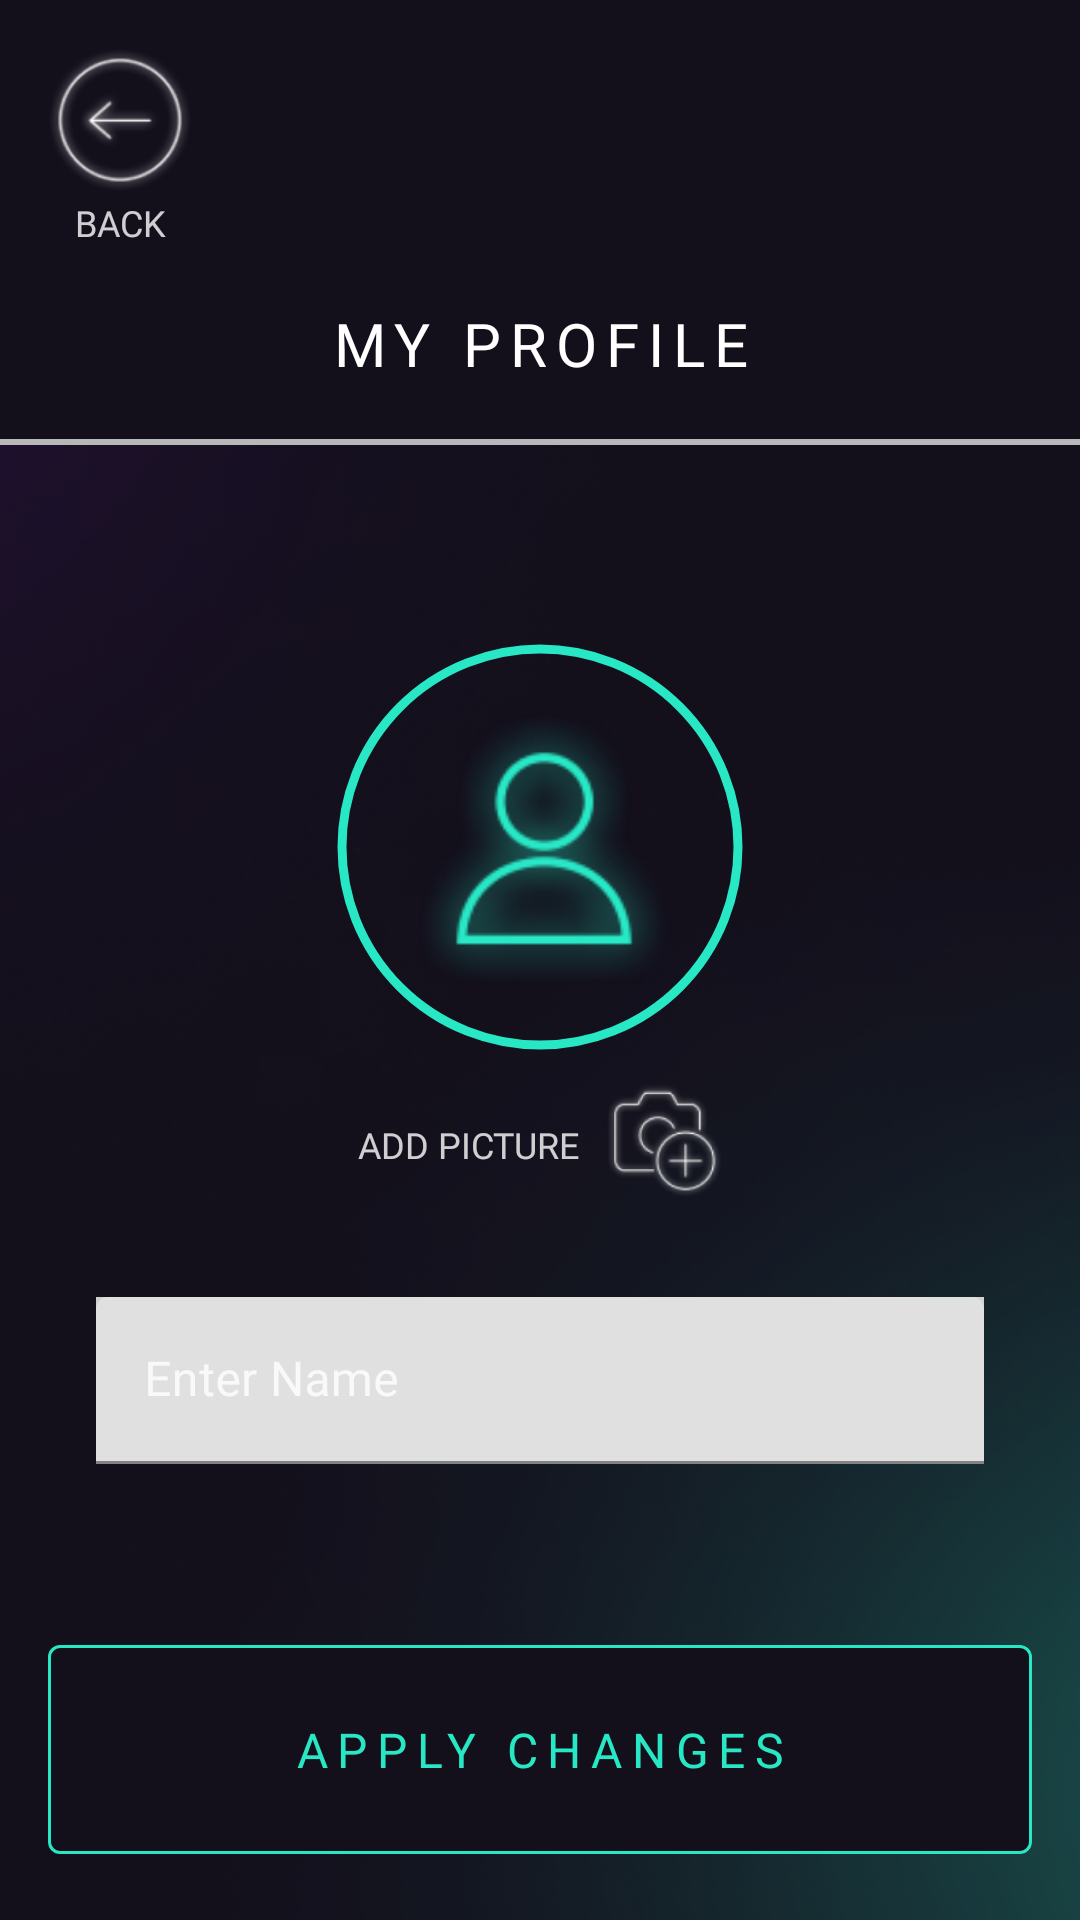

Locate icon controls on the screen. Image size 1080 x 1920, boxes as [left=x1, top=y1, right=x2, bottom=y2].
camera: [left=611, top=1089, right=718, bottom=1193]
